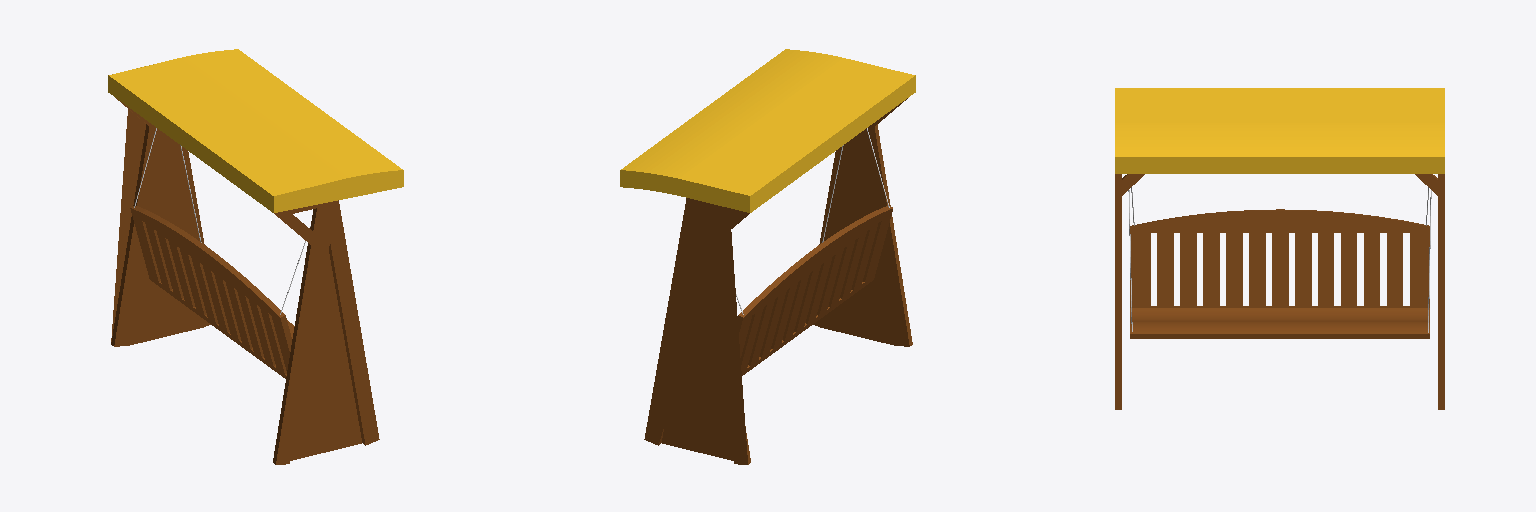
File: swing_wooden_chair.obj
The picture shows the model from 3 angles: view 1: azimuth 30°, elevation 25°; view 2: azimuth 150°, elevation 25°; view 3: azimuth 270°, elevation 25°; orthographic projection.
Parts seen in each view (by area): view 1: Mesh4 Bench_Frame1 Wooden_Swing1 Model, Mesh5 Canopy1 Wooden_Swing1 Model, Mesh1 Bench_Back1 Group1 Wooden_Swing1 Model; view 2: Mesh4 Bench_Frame1 Wooden_Swing1 Model, Mesh5 Canopy1 Wooden_Swing1 Model, Mesh1 Bench_Back1 Group1 Wooden_Swing1 Model; view 3: Mesh5 Canopy1 Wooden_Swing1 Model, Mesh1 Bench_Back1 Group1 Wooden_Swing1 Model, Mesh3 Bench_Seat1 Group1 Wooden_Swing1 Model, Mesh4 Bench_Frame1 Wooden_Swing1 Model.
Boxes of the visible parts, <box> form: Mesh4 Bench_Frame1 Wooden_Swing1 Model: <box>111,98,379,464</box>; Mesh5 Canopy1 Wooden_Swing1 Model: <box>108,49,403,212</box>; Mesh1 Bench_Back1 Group1 Wooden_Swing1 Model: <box>130,206,291,378</box>; Mesh4 Bench_Frame1 Wooden_Swing1 Model: <box>644,98,912,464</box>; Mesh5 Canopy1 Wooden_Swing1 Model: <box>620,49,915,212</box>; Mesh1 Bench_Back1 Group1 Wooden_Swing1 Model: <box>738,206,892,375</box>; Mesh5 Canopy1 Wooden_Swing1 Model: <box>1115,88,1444,173</box>; Mesh1 Bench_Back1 Group1 Wooden_Swing1 Model: <box>1130,209,1429,307</box>; Mesh3 Bench_Seat1 Group1 Wooden_Swing1 Model: <box>1130,308,1429,338</box>; Mesh4 Bench_Frame1 Wooden_Swing1 Model: <box>1115,174,1444,409</box>.
Bounding box in the file's own units: 36 × 72.04 × 79.2.